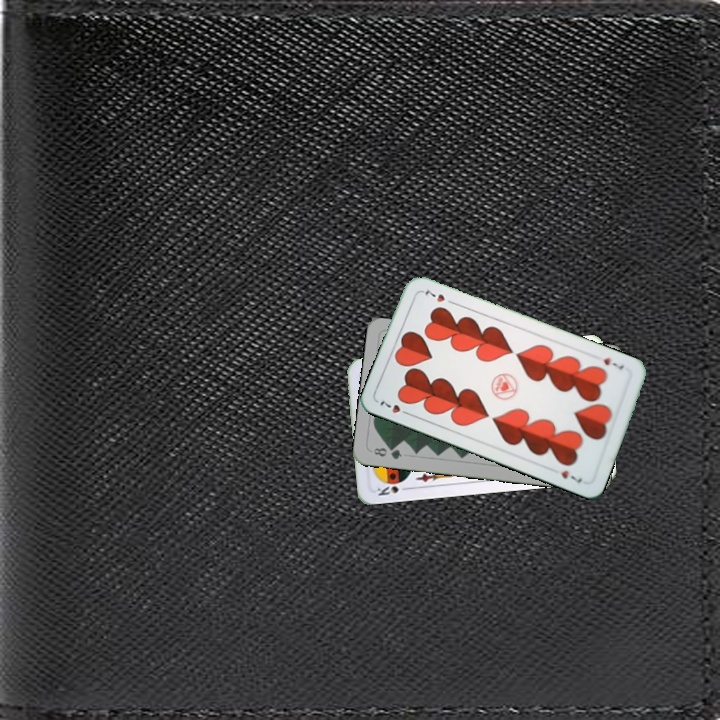G8: (369, 443, 405, 462)
H7: (376, 395, 413, 418), (600, 353, 627, 372)
SK: (372, 482, 412, 498)
